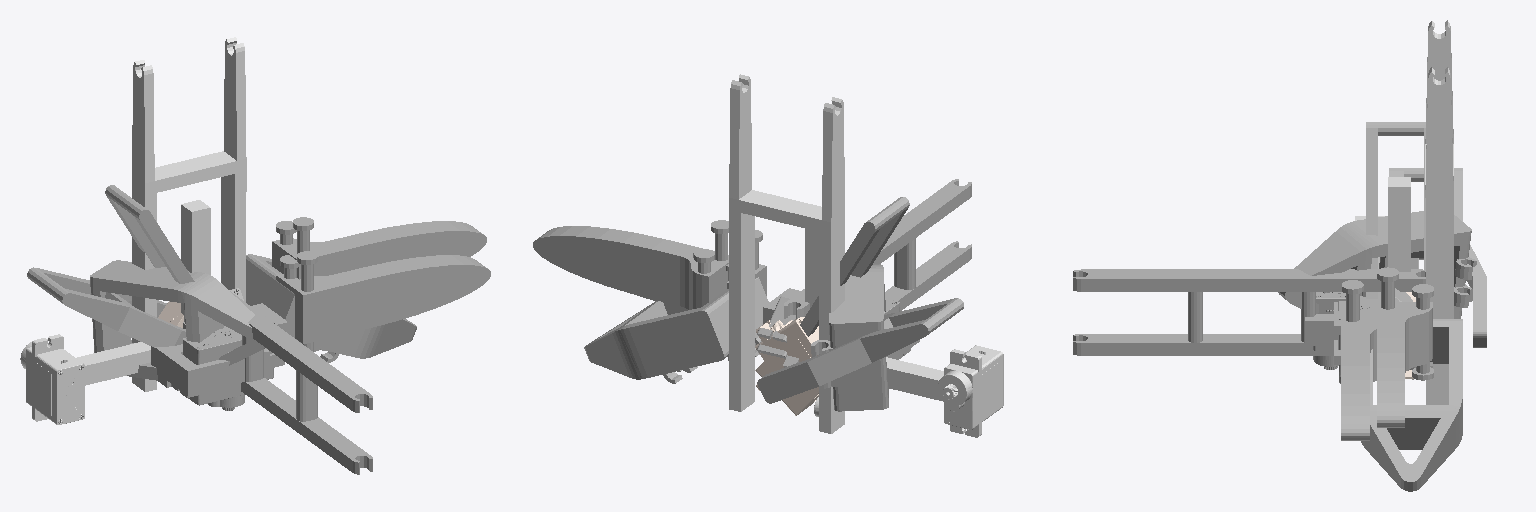
--- Facts derived from the render (not from the file) ---
The picture shows the robot from 3 angles, left to right: view 1: azimuth 30°, elevation 25°; view 2: azimuth 150°, elevation 25°; view 3: azimuth 270°, elevation 25°; orthographic projection.
Robot: barabasz — 23 links, 22 joints (22 continuous); root link MainBoard; default pose: all joints at 0.
Visible links, largest first — view 1: TAILstArmLink, TAILParallelLink, TAILstArmParallelLink, HEADParallelLink, TAILLink, RRstArmLink, TailndServoLink, HEADLink, HEADstArmLink, HEADstArmParallelLink, FRndArmLink, HEADndServoLink; view 2: TAILstArmLink, TAILLink, HEADLink, RRstArmLink, HEADstArmLink, TAILstArmParallelLink, HEADParallelLink, HEADstArmParallelLink, FLndServoLink, FRndArmLink, FRndServoLink, RLndServoLink; view 3: TAILstArmParallelLink, TAILstArmLink, HEADLink, TAILLink, HEADParallelLink, TAILParallelLink, HEADstArmParallelLink, HEADstArmLink, FRndArmLink, TailndServoLink, HEADndServoLink.
Link boxes in pixels (<box>): TAILstArmLink: <box>132,37,246,391</box>; TAILParallelLink: <box>276,251,490,351</box>; TAILstArmParallelLink: <box>230,291,372,474</box>; HEADParallelLink: <box>90,260,264,380</box>; TAILLink: <box>272,217,486,279</box>; RRstArmLink: <box>20,334,150,424</box>; TailndServoLink: <box>151,327,269,410</box>; HEADLink: <box>246,254,416,362</box>; HEADstArmLink: <box>27,267,185,347</box>; HEADstArmParallelLink: <box>105,185,194,283</box>; FRndArmLink: <box>181,200,210,321</box>; HEADndServoLink: <box>183,303,287,379</box>; TAILstArmLink: <box>729,74,844,433</box>; TAILLink: <box>533,220,728,309</box>; HEADLink: <box>584,277,768,383</box>; RRstArmLink: <box>886,345,1003,437</box>; HEADstArmLink: <box>757,298,963,403</box>; TAILstArmParallelLink: <box>784,179,971,318</box>; HEADParallelLink: <box>811,263,888,411</box>; HEADstArmParallelLink: <box>800,197,909,336</box>; FLndServoLink: <box>755,317,818,399</box>; FRndArmLink: <box>805,229,819,307</box>; FRndServoLink: <box>757,296,798,367</box>; RLndServoLink: <box>755,320,818,415</box>; TAILstArmParallelLink: <box>1073,269,1425,355</box>; TAILstArmLink: <box>1425,20,1453,404</box>; HEADLink: <box>1361,319,1462,491</box>; TAILLink: <box>1377,267,1433,427</box>; HEADParallelLink: <box>1278,211,1476,318</box>; TAILParallelLink: <box>1341,280,1398,440</box>; HEADstArmParallelLink: <box>1366,122,1425,298</box>; HEADstArmLink: <box>1378,168,1486,347</box>; FRndArmLink: <box>1388,177,1410,271</box>; TailndServoLink: <box>1305,292,1365,369</box>; HEADndServoLink: <box>1334,292,1380,383</box>.
Bounding box of the posed robot: 0.1878 × 0.1465 × 0.1327 m (x, y, z).
17 mesh visuals loaded from 23 distinct referenced files (17 binary STL); not drawn: 6 (reference not matched to a file when rendering).

URDF robot description (barabasz):
<?xml version="1.0" encoding="utf-8"?>
<!-- This URDF was automatically created by SolidWorks to URDF Exporter! Originally created by Stephen Brawner ([email redacted])
     Commit Version: 1.5.0-0-g9aa0fdb  Build Version: 1.5.7004.21443
     For more information, please see http://wiki.ros.org/sw_urdf_exporter -->
<robot
  name="barabasz">
  <link
    name="MainBoard">
    <inertial>
      <origin
        xyz="0.0320000193093406 0.0395027228531644 -0.00887228498062729"
        rpy="0 0 0" />
      <mass
        value="0.129368445580365" />
      <inertia
        ixx="8.48084091172867E-05"
        ixy="2.80190057159981E-15"
        ixz="2.02445045214041E-15"
        iyy="3.18110038223727E-05"
        iyz="-1.94866910333067E-08"
        izz="0.000114276211084326" />
    </inertial>
    <visual>
      <origin
        xyz="0 0 0"
        rpy="0 0 0" />
      <geometry>
        <mesh
          filename="package://lizardv4_description/meshes/MainBoard.STL" />
      </geometry>
      <material
        name="">
        <color
          rgba="0.92156862745098 0.92156862745098 0.92156862745098 1" />
      </material>
    </visual>
    <collision>
      <origin
        xyz="0 0 0"
        rpy="0 0 0" />
      <geometry>
        <mesh
          filename="package://lizardv4_description/meshes/MainBoard.STL" />
      </geometry>
    </collision>
  </link>
  <link
    name="FRndServoLink">
    <inertial>
      <origin
        xyz="0.0098016864311756 0.00502207567819904 0.00196275724149369"
        rpy="0 0 0" />
      <mass
        value="0.00898215960028815" />
      <inertia
        ixx="5.02863363005504E-07"
        ixy="4.18675844396454E-10"
        ixz="3.94830240933682E-11"
        iyy="3.74381841474543E-07"
        iyz="-1.3112112929385E-07"
        izz="3.05060721261306E-07" />
    </inertial>
    <visual>
      <origin
        xyz="0 0 0"
        rpy="0 0 0" />
      <geometry>
        <mesh
          filename="package://lizardv4_description/meshes/FRndServoLink.STL" />
      </geometry>
      <material
        name="">
        <color
          rgba="0.749019607843137 0.749019607843137 0.749019607843137 1" />
      </material>
    </visual>
    <collision>
      <origin
        xyz="0 0 0"
        rpy="0 0 0" />
      <geometry>
        <mesh
          filename="package://lizardv4_description/meshes/FRndServoLink.STL" />
      </geometry>
    </collision>
  </link>
  <joint
    name="FRndServoJnt"
    type="continuous">
    <origin
      xyz="0 0 0"
      rpy="0 0 0" />
    <parent
      link="MainBoard" />
    <child
      link="FRndServoLink" />
    <axis
      xyz="-1 0 0" />
    <limit
      lower="-90"
      upper="90"
      effort="0"
      velocity="0" />
    <safety_controller
      k_velocity="0" />
  </joint>
  <link
    name="FRstArmLink">
    <inertial>
      <origin
        xyz="-0.0500875871883696 0.00194912580005271 0.000253934434247732"
        rpy="0 0 0" />
      <mass
        value="0.0107279118497702" />
      <inertia
        ixx="4.12846705839608E-07"
        ixy="-3.43052828463929E-12"
        ixz="7.44951237431332E-12"
        iyy="1.46713625008234E-06"
        iyz="-9.7433444226041E-09"
        izz="1.19624826540066E-06" />
    </inertial>
    <visual>
      <origin
        xyz="0 0 0"
        rpy="0 0 0" />
      <geometry>
        <mesh
          filename="package://lizardv4_description/meshes/FRstArmLink.STL" />
      </geometry>
      <material
        name="">
        <color
          rgba="0.92156862745098 0.92156862745098 0.92156862745098 1" />
      </material>
    </visual>
    <collision>
      <origin
        xyz="0 0 0"
        rpy="0 0 0" />
      <geometry>
        <mesh
          filename="package://lizardv4_description/meshes/FRstArmLink.STL" />
      </geometry>
    </collision>
  </link>
  <joint
    name="FRstArmJnt"
    type="continuous">
    <origin
      xyz="0 0 0"
      rpy="0 0 0" />
    <parent
      link="FRndServoLink" />
    <child
      link="FRstArmLink" />
    <axis
      xyz="0 -1 0" />
    <limit
      lower="-90"
      upper="90"
      effort="0"
      velocity="0" />
    <safety_controller
      k_velocity="0" />
  </joint>
  <link
    name="FRndArmLink">
    <inertial>
      <origin
        xyz="1.66533453693773E-16 0.00400000000000231 0.0271089217366474"
        rpy="0 0 0" />
      <mass
        value="0.0036829203673205" />
      <inertia
        ixx="1.06068205884601E-06"
        ixy="-2.61337374778472E-23"
        ixz="-3.15677567247594E-21"
        iyy="1.0612743799609E-06"
        iyz="-9.69952264274263E-23"
        izz="3.98768050329808E-08" />
    </inertial>
    <visual>
      <origin
        xyz="0 0 0"
        rpy="0 0 0" />
      <geometry>
        <mesh
          filename="package://lizardv4_description/meshes/FRndArmLink.STL" />
      </geometry>
      <material
        name="">
        <color
          rgba="0.92156862745098 0.92156862745098 0.92156862745098 1" />
      </material>
    </visual>
    <collision>
      <origin
        xyz="0 0 0"
        rpy="0 0 0" />
      <geometry>
        <mesh
          filename="package://lizardv4_description/meshes/FRndArmLink.STL" />
      </geometry>
    </collision>
  </link>
  <joint
    name="FRndArmJnt"
    type="continuous">
    <origin
      xyz="0 0 0"
      rpy="0 0 0" />
    <parent
      link="FRstArmLink" />
    <child
      link="FRndArmLink" />
    <axis
      xyz="0 -1 0" />
    <limit
      lower="-90"
      upper="90"
      effort="0"
      velocity="0" />
    <safety_controller
      k_velocity="0" />
  </joint>
  <link
    name="FLndServoLink">
    <inertial>
      <origin
        xyz="0.00502207561036433 0.0098014081989965 0.00196275721417633"
        rpy="0 0 0" />
      <mass
        value="0.00898215956181228" />
      <inertia
        ixx="3.74381842823677E-07"
        ixy="4.03840416342418E-10"
        ixz="-1.31121133113021E-07"
        iyy="5.02863370888215E-07"
        iyz="3.24804200573631E-11"
        izz="3.05060719170781E-07" />
    </inertial>
    <visual>
      <origin
        xyz="0 0 0"
        rpy="0 0 0" />
      <geometry>
        <mesh
          filename="package://lizardv4_description/meshes/FLndServoLink.STL" />
      </geometry>
      <material
        name="">
        <color
          rgba="1 0.949019607843137 0.909803921568627 1" />
      </material>
    </visual>
    <collision>
      <origin
        xyz="0 0 0"
        rpy="0 0 0" />
      <geometry>
        <mesh
          filename="package://lizardv4_description/meshes/FLndServoLink.STL" />
      </geometry>
    </collision>
  </link>
  <joint
    name="FLndServoJnt"
    type="continuous">
    <origin
      xyz="0 0 0"
      rpy="0 0 0" />
    <parent
      link="MainBoard" />
    <child
      link="FLndServoLink" />
    <axis
      xyz="0 -1 0" />
    <limit
      lower="-90"
      upper="90"
      effort="0"
      velocity="0" />
    <safety_controller
      k_velocity="0" />
  </joint>
  <link
    name="FLstArmLink">
    <inertial>
      <origin
        xyz="-0.0500875873876524 0.00194912593459625 0.000253934562126246"
        rpy="0 0 0" />
      <mass
        value="0.0107279120183282" />
      <inertia
        ixx="4.1284671726827E-07"
        ixy="-3.43025266266729E-12"
        ixz="7.45044411557124E-12"
        iyy="1.46713626063975E-06"
        iyz="-9.74334754935356E-09"
        izz="1.19624826644716E-06" />
    </inertial>
    <visual>
      <origin
        xyz="0 0 0"
        rpy="0 0 0" />
      <geometry>
        <mesh
          filename="package://lizardv4_description/meshes/FLstArmLink.STL" />
      </geometry>
      <material
        name="">
        <color
          rgba="0.92156862745098 0.92156862745098 0.92156862745098 1" />
      </material>
    </visual>
    <collision>
      <origin
        xyz="0 0 0"
        rpy="0 0 0" />
      <geometry>
        <mesh
          filename="package://lizardv4_description/meshes/FLstArmLink.STL" />
      </geometry>
    </collision>
  </link>
  <joint
    name="FLstArmJnt"
    type="continuous">
    <origin
      xyz="0 0 0"
      rpy="0 0 0" />
    <parent
      link="FLndServoLink" />
    <child
      link="FLstArmLink" />
    <axis
      xyz="0 -1 0" />
    <limit
      lower="-90"
      upper="90"
      effort="0"
      velocity="0" />
    <safety_controller
      k_velocity="0" />
  </joint>
  <link
    name="FLndArmLink">
    <inertial>
      <origin
        xyz="1.77635683940025E-15 0.00400000000000253 0.0271089217366467"
        rpy="0 0 0" />
      <mass
        value="0.00368292036732051" />
      <inertia
        ixx="1.06068205884601E-06"
        ixy="-1.47341546611008E-23"
        ixz="-2.75832422543757E-22"
        iyy="1.06127437996091E-06"
        iyz="1.85708348209369E-21"
        izz="3.98768050329815E-08" />
    </inertial>
    <visual>
      <origin
        xyz="0 0 0"
        rpy="0 0 0" />
      <geometry>
        <mesh
          filename="package://lizardv4_description/meshes/FLndArmLink.STL" />
      </geometry>
      <material
        name="">
        <color
          rgba="0.92156862745098 0.92156862745098 0.92156862745098 1" />
      </material>
    </visual>
    <collision>
      <origin
        xyz="0 0 0"
        rpy="0 0 0" />
      <geometry>
        <mesh
          filename="package://lizardv4_description/meshes/FLndArmLink.STL" />
      </geometry>
    </collision>
  </link>
  <joint
    name="FLndArmJnt"
    type="continuous">
    <origin
      xyz="0 0 0"
      rpy="0 0 0" />
    <parent
      link="FLstArmLink" />
    <child
      link="FLndArmLink" />
    <axis
      xyz="0 -1 0" />
    <limit
      lower="-90"
      upper="90"
      effort="0"
      velocity="0" />
    <safety_controller
      k_velocity="0" />
  </joint>
  <link
    name="RLndServoLink">
    <inertial>
      <origin
        xyz="0.00502207559527033 0.00980168628786889 -0.00196275742307396"
        rpy="0 0 0" />
      <mass
        value="0.00898215939878838" />
      <inertia
        ixx="3.74381834266887E-07"
        ixy="4.18674984067614E-10"
        ixz="1.31121128597758E-07"
        iyy="5.02863359943406E-07"
        iyz="-3.94795548611325E-11"
        izz="3.05060716625873E-07" />
    </inertial>
    <visual>
      <origin
        xyz="0 0 0"
        rpy="0 0 0" />
      <geometry>
        <mesh
          filename="package://lizardv4_description/meshes/RLndServoLink.STL" />
      </geometry>
      <material
        name="">
        <color
          rgba="1 0.949019607843137 0.909803921568627 1" />
      </material>
    </visual>
    <collision>
      <origin
        xyz="0 0 0"
        rpy="0 0 0" />
      <geometry>
        <mesh
          filename="package://lizardv4_description/meshes/RLndServoLink.STL" />
      </geometry>
    </collision>
  </link>
  <joint
    name="RLndServoJnt"
    type="continuous">
    <origin
      xyz="0 0 0"
      rpy="0 0 0" />
    <parent
      link="MainBoard" />
    <child
      link="RLndServoLink" />
    <axis
      xyz="0 -1 0" />
    <limit
      lower="-90"
      upper="90"
      effort="0"
      velocity="0" />
    <safety_controller
      k_velocity="0" />
  </joint>
  <link
    name="RLstArmLink">
    <inertial>
      <origin
        xyz="-0.0500875871864415 0.00194912579904715 0.00025393443359199"
        rpy="0 0 0" />
      <mass
        value="0.0107279118486511" />
      <inertia
        ixx="4.12846705783004E-07"
        ixy="-3.43054560284723E-12"
        ixz="7.44948705378678E-12"
        iyy="1.46713625002562E-06"
        iyz="-9.74334440777068E-09"
        izz="1.19624826538892E-06" />
    </inertial>
    <visual>
      <origin
        xyz="0 0 0"
        rpy="0 0 0" />
      <geometry>
        <mesh
          filename="package://lizardv4_description/meshes/RLstArmLink.STL" />
      </geometry>
      <material
        name="">
        <color
          rgba="0.92156862745098 0.92156862745098 0.92156862745098 1" />
      </material>
    </visual>
    <collision>
      <origin
        xyz="0 0 0"
        rpy="0 0 0" />
      <geometry>
        <mesh
          filename="package://lizardv4_description/meshes/RLstArmLink.STL" />
      </geometry>
    </collision>
  </link>
  <joint
    name="RLstArmJnt"
    type="continuous">
    <origin
      xyz="0 0 0"
      rpy="0 0 0" />
    <parent
      link="RLndServoLink" />
    <child
      link="RLstArmLink" />
    <axis
      xyz="0 -1 0" />
    <limit
      lower="-90"
      upper="90"
      effort="0"
      velocity="0" />
    <safety_controller
      k_velocity="0" />
  </joint>
  <link
    name="RLndArmLink">
    <inertial>
      <origin
        xyz="-6.07153216591882E-16 0.00400000000000033 0.027108921736649"
        rpy="0 0 0" />
      <mass
        value="0.00368292036732051" />
      <inertia
        ixx="1.06068205884601E-06"
        ixy="-8.73709522009135E-24"
        ixz="-4.73809701105228E-22"
        iyy="1.0612743799609E-06"
        iyz="2.86809130555803E-21"
        izz="3.98768050329813E-08" />
    </inertial>
    <visual>
      <origin
        xyz="0 0 0"
        rpy="0 0 0" />
      <geometry>
        <mesh
          filename="package://lizardv4_description/meshes/RLndArmLink.STL" />
      </geometry>
      <material
        name="">
        <color
          rgba="0.92156862745098 0.92156862745098 0.92156862745098 1" />
      </material>
    </visual>
    <collision>
      <origin
        xyz="0 0 0"
        rpy="0 0 0" />
      <geometry>
        <mesh
          filename="package://lizardv4_description/meshes/RLndArmLink.STL" />
      </geometry>
    </collision>
  </link>
  <joint
    name="RLndArmJnt"
    type="continuous">
    <origin
      xyz="0 0 0"
      rpy="0 0 0" />
    <parent
      link="RLstArmLink" />
    <child
      link="RLndArmLink" />
    <axis
      xyz="0 -1 0" />
    <limit
      lower="-90"
      upper="90"
      effort="0"
      velocity="0" />
    <safety_controller
      k_velocity="0" />
  </joint>
  <link
    name="RRndServoLink">
    <inertial>
      <origin
        xyz="0.00502207563561259 0.0098014082543094 0.00196275732204219"
        rpy="0 0 0" />
      <mass
        value="0.00898215950593245" />
      <inertia
        ixx="3.74381838430846E-07"
        ixy="4.03841544870431E-10"
        ixz="-1.31121129092361E-07"
        iyy="5.02863361856574E-07"
        iyz="3.24833698928373E-11"
        izz="3.05060719194867E-07" />
    </inertial>
    <visual>
      <origin
        xyz="0 0 0"
        rpy="0 0 0" />
      <geometry>
        <mesh
          filename="package://lizardv4_description/meshes/RRndServoLink.STL" />
      </geometry>
      <material
        name="">
        <color
          rgba="0.749019607843137 0.749019607843137 0.749019607843137 1" />
      </material>
    </visual>
    <collision>
      <origin
        xyz="0 0 0"
        rpy="0 0 0" />
      <geometry>
        <mesh
          filename="package://lizardv4_description/meshes/RRndServoLink.STL" />
      </geometry>
    </collision>
  </link>
  <joint
    name="RRndServoJnt"
    type="continuous">
    <origin
      xyz="0 0 0"
      rpy="0 0 0" />
    <parent
      link="MainBoard" />
    <child
      link="RRndServoLink" />
    <axis
      xyz="0 -1 0" />
    <limit
      lower="-90"
      upper="90"
      effort="0"
      velocity="0" />
    <safety_controller
      k_velocity="0" />
  </joint>
  <link
    name="RRstArmLink">
    <inertial>
      <origin
        xyz="-0.0500875871874151 0.00194912579927123 0.000253934434254439"
        rpy="0 0 0" />
      <mass
        value="0.0107279118489898" />
      <inertia
        ixx="4.12846705857771E-07"
        ixy="-3.43053046219455E-12"
        ixz="7.44951233072175E-12"
        iyy="1.46713625007563E-06"
        iyz="-9.74334442457229E-09"
        izz="1.19624826536787E-06" />
    </inertial>
    <visual>
      <origin
        xyz="0 0 0"
        rpy="0 0 0" />
      <geometry>
        <mesh
          filename="package://lizardv4_description/meshes/RRstArmLink.STL" />
      </geometry>
      <material
        name="">
        <color
          rgba="0.92156862745098 0.92156862745098 0.92156862745098 1" />
      </material>
    </visual>
    <collision>
      <origin
        xyz="0 0 0"
        rpy="0 0 0" />
      <geometry>
        <mesh
          filename="package://lizardv4_description/meshes/RRstArmLink.STL" />
      </geometry>
    </collision>
  </link>
  <joint
    name="RRstArmJnt"
    type="continuous">
    <origin
      xyz="0 0 0"
      rpy="0 0 0" />
    <parent
      link="RRndServoLink" />
    <child
      link="RRstArmLink" />
    <axis
      xyz="0 -1 0" />
    <limit
      lower="-90"
      upper="90"
      effort="0"
      velocity="0" />
    <safety_controller
      k_velocity="0" />
  </joint>
  <link
    name="RRndArmLink">
    <inertial>
      <origin
        xyz="-2.77555756156289E-17 0.00400000000000003 0.0271089217366482"
        rpy="0 0 0" />
      <mass
        value="0.00368292036732051" />
      <inertia
        ixx="1.06068205884601E-06"
        ixy="-4.75628852217991E-24"
        ixz="1.08545321853851E-21"
        iyy="1.0612743799609E-06"
        iyz="-5.49341371253738E-22"
        izz="3.98768050329812E-08" />
    </inertial>
    <visual>
      <origin
        xyz="0 0 0"
        rpy="0 0 0" />
      <geometry>
        <mesh
          filename="package://lizardv4_description/meshes/RRndArmLink.STL" />
      </geometry>
      <material
        name="">
        <color
          rgba="0.92156862745098 0.92156862745098 0.92156862745098 1" />
      </material>
    </visual>
    <collision>
      <origin
        xyz="0 0 0"
        rpy="0 0 0" />
      <geometry>
        <mesh
          filename="package://lizardv4_description/meshes/RRndArmLink.STL" />
      </geometry>
    </collision>
  </link>
  <joint
    name="RRndArmJnt"
    type="continuous">
    <origin
      xyz="0 0 0"
      rpy="0 0 0" />
    <parent
      link="RRstArmLink" />
    <child
      link="RRndArmLink" />
    <axis
      xyz="0 -1 0" />
    <limit
      lower="-90"
      upper="90"
      effort="0"
      velocity="0" />
    <safety_controller
      k_velocity="0" />
  </joint>
  <link
    name="HEADndServoLink">
    <inertial>
      <origin
        xyz="0.00817073714990585 -0.00971625048268563 0.00145467704025708"
        rpy="0 0 0" />
      <mass
        value="0.0121934444913325" />
      <inertia
        ixx="4.23955061841118E-07"
        ixy="-9.10853312043913E-08"
        ixz="-1.63814882462324E-08"
        iyy="1.2199527611556E-06"
        iyz="-8.11641297651328E-09"
        izz="1.31199138818332E-06" />
    </inertial>
    <visual>
      <origin
        xyz="0 0 0"
        rpy="0 0 0" />
      <geometry>
        <mesh
          filename="package://lizardv4_description/meshes/HEADndServoLink.STL" />
      </geometry>
      <material
        name="">
        <color
          rgba="0.749019607843137 0.749019607843137 0.749019607843137 1" />
      </material>
    </visual>
    <collision>
      <origin
        xyz="0 0 0"
        rpy="0 0 0" />
      <geometry>
        <mesh
          filename="package://lizardv4_description/meshes/HEADndServoLink.STL" />
      </geometry>
    </collision>
  </link>
  <joint
    name="HEADndServoJnt"
    type="continuous">
    <origin
      xyz="0 0 0"
      rpy="0 0 0" />
    <parent
      link="MainBoard" />
    <child
      link="HEADndServoLink" />
    <axis
      xyz="0 1 0" />
    <limit
      lower="-90"
      upper="90"
      effort="0"
      velocity="0" />
    <safety_controller
      k_velocity="0" />
  </joint>
  <link
    name="HEADstArmLink">
    <inertial>
      <origin
        xyz="-0.0251265028854895 0.013480592660757 0.0145067918138991"
        rpy="0 0 0" />
      <mass
        value="0.00788385789613033" />
      <inertia
        ixx="2.36782866238395E-06"
        ixy="-8.51226692416808E-08"
        ixz="1.30397572984443E-06"
        iyy="3.12428228891571E-06"
        iyz="4.91456350401789E-08"
        izz="3.87353002601518E-06" />
    </inertial>
    <visual>
      <origin
        xyz="0 0 0"
        rpy="0 0 0" />
      <geometry>
        <mesh
          filename="package://lizardv4_description/meshes/HEADstArmLink.STL" />
      </geometry>
      <material
        name="">
        <color
          rgba="0.749019607843137 0.749019607843137 0.749019607843137 1" />
      </material>
    </visual>
    <collision>
      <origin
        xyz="0 0 0"
        rpy="0 0 0" />
      <geometry>
        <mesh
          filename="package://lizardv4_description/meshes/HEADstArmLink.STL" />
      </geometry>
    </collision>
  </link>
  <joint
    name="HEADstArmJnt"
    type="continuous">
    <origin
      xyz="0 0 0"
      rpy="0 0 0" />
    <parent
      link="HEADndServoLink" />
    <child
      link="HEADstArmLink" />
    <axis
      xyz="0 1 0" />
    <limit
      lower="-90"
      upper="90"
      effort="0"
      velocity="0" />
    <safety_controller
      k_velocity="0" />
  </joint>
  <link
    name="HEADLink">
    <inertial>
      <origin
        xyz="0.0554988766394613 0.00799999970901315 -0.00147454938363152"
        rpy="0 0 0" />
      <mass
        value="0.0177300364754162" />
      <inertia
        ixx="4.41581214683472E-06"
        ixy="-1.54454845110966E-12"
        ixz="2.20726693817977E-06"
        iyy="7.03739587968143E-06"
        iyz="4.16679611799208E-13"
        izz="8.27777171343773E-06" />
    </inertial>
    <visual>
      <origin
        xyz="0 0 0"
        rpy="0 0 0" />
      <geometry>
        <mesh
          filename="package://lizardv4_description/meshes/HEADLink.STL" />
      </geometry>
      <material
        name="">
        <color
          rgba="0.749019607843137 0.749019607843137 0.749019607843137 1" />
      </material>
    </visual>
    <collision>
      <origin
        xyz="0 0 0"
        rpy="0 0 0" />
      <geometry>
        <mesh
          filename="package://lizardv4_description/meshes/HEADLink.STL" />
      </geometry>
    </collision>
  </link>
  <joint
    name="HEADJnt"
    type="continuous">
    <origin
      xyz="0 0 0"
      rpy="0 0 0" />
    <parent
      link="HEADstArmLink" />
    <child
      link="HEADLink" />
    <axis
      xyz="0 1 0" />
    <limit
      lower="-90"
      upper="90"
      effort="0"
      velocity="0" />
    <safety_controller
      k_velocity="0" />
  </joint>
  <link
    name="HEADstArmParallelLink">
    <inertial>
      <origin
        xyz="-0.0122501451765017 0.00455000000000487 0.035245741804803"
        rpy="0 0 0" />
      <mass
        value="0.00373003311748238" />
      <inertia
        ixx="1.76654564691896E-06"
        ixy="1.02089597225529E-21"
        ixz="8.1677668885244E-07"
        iyy="1.9009569588329E-06"
        iyz="-1.64562412988596E-21"
        izz="8.23435633498772E-07" />
    </inertial>
    <visual>
      <origin
        xyz="0 0 0"
        rpy="0 0 0" />
      <geometry>
        <mesh
          filename="package://lizardv4_description/meshes/HEADstArmParallelLink.STL" />
      </geometry>
      <material
        name="">
        <color
          rgba="0.749019607843137 0.749019607843137 0.749019607843137 1" />
      </material>
    </visual>
    <collision>
      <origin
        xyz="0 0 0"
        rpy="0 0 0" />
      <geometry>
        <mesh
          filename="package://lizardv4_description/meshes/HEADstArmParallelLink.STL" />
      </geometry>
    </collision>
  </link>
  <joint
    name="HEADstArmParallelLJnt"
    type="continuous">
    <origin
      xyz="0 0 0"
      rpy="0 0 0" />
    <parent
      link="HEADndServoLink" />
    <child
      link="HEADstArmParallelLink" />
    <axis
      xyz="0 1 0" />
    <limit
      lower="-90"
      upper="90"
      effort="0"
      velocity="0" />
    <safety_controller
      k_velocity="0" />
  </joint>
  <link
    name="HEADParallelLink">
    <inertial>
      <origin
        xyz="-0.0134202070650145 -0.00023110163398038 0.0126004276917603"
        rpy="0 0 0" />
      <mass
        value="0.0177300364754162" />
      <inertia
        ixx="7.8539051231723E-06"
        ixy="2.50107486289452E-06"
        ixz="-2.71927351959353E-07"
        iyy="4.86526699259685E-06"
        iyz="2.35756479588157E-07"
        izz="7.01180762418472E-06" />
    </inertial>
    <visual>
      <origin
        xyz="0 0 0"
        rpy="0 0 0" />
      <geometry>
        <mesh
          filename="package://lizardv4_description/meshes/HEADParallelLink.STL" />
      </geometry>
      <material
        name="">
        <color
          rgba="0.749019607843137 0.749019607843137 0.749019607843137 1" />
      </material>
    </visual>
    <collision>
      <origin
        xyz="0 0 0"
        rpy="0 0 0" />
      <geometry>
        <mesh
          filename="package://lizardv4_description/meshes/HEADParallelLink.STL" />
      </geometry>
    </collision>
  </link>
  <joint
    name="HEADParallelJnt"
    type="continuous">
    <origin
      xyz="0 0 0"
      rpy="0 0 0" />
    <parent
      link="HEADstArmParallelLink" />
    <child
      link="HEADParallelLink" />
    <axis
      xyz="0 1 0" />
    <limit
      lower="-90"
      upper="90"
      effort="0"
      velocity="0" />
    <safety_controller
      k_velocity="0" />
  </joint>
  <link
    name="TailndServoLink">
    <inertial>
      <origin
        xyz="-0.0048574414776266 -0.0161888669112015 0.00107673629300598"
        rpy="0 0 0" />
      <mass
        value="0.0151391203827047" />
      <inertia
        ixx="7.7721318874226E-07"
        ixy="-7.03495523708996E-09"
        ixz="1.32669798403111E-08"
        iyy="1.48477068102486E-06"
        iyz="3.80435662351854E-08"
        izz="1.87604788829166E-06" />
    </inertial>
    <visual>
      <origin
        xyz="0 0 0"
        rpy="0 0 0" />
      <geometry>
        <mesh
          filename="package://lizardv4_description/meshes/TailndServoLink.STL" />
      </geometry>
      <material
        name="">
        <color
          rgba="0.749019607843137 0.749019607843137 0.749019607843137 1" />
      </material>
    </visual>
    <collision>
      <origin
        xyz="0 0 0"
        rpy="0 0 0" />
      <geometry>
        <mesh
          filename="package://lizardv4_description/meshes/TailndServoLink.STL" />
      </geometry>
    </collision>
  </link>
  <joint
    name="TailndServoJnt"
    type="continuous">
    <origin
      xyz="0 0 0"
      rpy="0 0 0" />
    <parent
      link="MainBoard" />
    <child
      link="TailndServoLink" />
    <axis
      xyz="0 1 0" />
    <limit
      lower="-90"
      upper="90"
      effort="0"
      velocity="0" />
    <safety_controller
      k_velocity="0" />
  </joint>
  <link
    name="TAILstArmLink">
    <inertial>
      <origin
        xyz="0.00543848267787118 0.0182547316012027 0.0424256187265556"
        rpy="0 0 0" />
      <mass
        value="0.0132846631864033" />
      <inertia
        ixx="1.50674585466447E-05"
        ixy="-1.63523642523639E-10"
        ixz="1.97822495424931E-07"
        iyy="1.93171005318235E-05"
        iyz="1.22759944593701E-08"
        izz="4.46322191208121E-06" />
    </inertial>
    <visual>
      <origin
        xyz="0 0 0"
        rpy="0 0 0" />
      <geometry>
        <mesh
          filename="package://lizardv4_description/meshes/TAILstArmLink.STL" />
      </geometry>
      <material
        name="">
        <color
          rgba="0.92156862745098 0.92156862745098 0.92156862745098 1" />
      </material>
    </visual>
    <collision>
      <origin
        xyz="0 0 0"
        rpy="0 0 0" />
      <geometry>
        <mesh
          filename="package://lizardv4_description/meshes/TAILstArmLink.STL" />
      </geometry>
    </collision>
  </link>
  <joint
    name="TAILstArmJnt"
    type="continuous">
    <origin
      xyz="0 0 0"
      rpy="0 0 0" />
    <parent
      link="TailndServoLink" />
    <child
      link="TAILstArmLink" />
    <axis
      xyz="1 0 0" />
    <limit
      lower="-90"
      upper="90"
      effort="0"
      velocity="0" />
    <safety_controller
      k_velocity="0" />
  </joint>
  <link
    name="TAILLink">
    <inertial>
      <origin
        xyz="0.0693819489154556 0.00236468450873411 0.0174996318739005"
        rpy="0 0 0" />
      <mass
        value="0.0170255571844121" />
      <inertia
        ixx="1.10748675129764E-06"
        ixy="5.92827428438699E-07"
        ixz="2.6867305894356E-10"
        iyy="9.48088608953699E-06"
        iyz="-2.33873685031626E-12"
        izz="9.05157957329576E-06" />
    </inertial>
    <visual>
      <origin
        xyz="0 0 0"
        rpy="0 0 0" />
      <geometry>
        <mesh
          filename="package://lizardv4_description/meshes/TAILLink.STL" />
      </geometry>
      <material
        name="">
        <color
          rgba="0.749019607843137 0.749019607843137 0.749019607843137 1" />
      </material>
    </visual>
    <collision>
      <origin
        xyz="0 0 0"
        rpy="0 0 0" />
      <geometry>
        <mesh
          filename="package://lizardv4_description/meshes/TAILLink.STL" />
      </geometry>
    </collision>
  </link>
  <joint
    name="TAILJnt"
    type="continuous">
    <origin
      xyz="0 0 0"
      rpy="0 0 0" />
    <parent
      link="TAILstArmLink" />
    <child
      link="TAILLink" />
    <axis
      xyz="0 0 1" />
    <limit
      lower="-90"
      upper="90"
      effort="0"
      velocity="0" />
    <safety_controller
      k_velocity="0" />
  </joint>
  <link
    name="TAILstArmParallelLink">
    <inertial>
      <origin
        xyz="0.00570000000000003 -0.04815 0.00754999999999956"
        rpy="0 0 0" />
      <mass
        value="0.0110994579255875" />
      <inertia
        ixx="1.38627444069151E-05"
        ixy="2.63063481881553E-21"
        ixz="-4.78081631772327E-22"
        iyy="1.63407638509854E-06"
        iyz="-3.0736480598822E-21"
        izz="1.23476561550545E-05" />
    </inertial>
    <visual>
      <origin
        xyz="0 0 0"
        rpy="0 0 0" />
      <geometry>
        <mesh
          filename="package://lizardv4_description/meshes/TAILstArmParallelLink.STL" />
      </geometry>
      <material
        name="">
        <color
          rgba="0.749019607843137 0.749019607843137 0.749019607843137 1" />
      </material>
    </visual>
    <collision>
      <origin
        xyz="0 0 0"
        rpy="0 0 0" />
      <geometry>
        <mesh
          filename="package://lizardv4_description/meshes/TAILstArmParallelLink.STL" />
      </geometry>
    </collision>
  </link>
  <joint
    name="TAILstArmParallelJnt"
    type="continuous">
    <origin
      xyz="0 0 0"
      rpy="0 0 0" />
    <parent
      link="TailndServoLink" />
    <child
      link="TAILstArmParallelLink" />
    <axis
      xyz="0 0 -1" />
    <limit
      lower="-90"
      upper="90"
      effort="0"
      velocity="0" />
    <safety_controller
      k_velocity="0" />
  </joint>
  <link
    name="TAILParallelLink">
    <inertial>
      <origin
        xyz="0.0638799444695541 -0.0101139262583112 0.00999963187390017"
        rpy="0 0 0" />
      <mass
        value="0.0170255571844121" />
      <inertia
        ixx="1.10651259072902E-06"
        ixy="5.85906456236652E-07"
        ixz="2.68674900034566E-10"
        iyy="9.48186025010561E-06"
        iyz="-2.11669219326754E-12"
        izz="9.05157957329576E-06" />
    </inertial>
    <visual>
      <origin
        xyz="0 0 0"
        rpy="0 0 0" />
      <geometry>
        <mesh
          filename="package://lizardv4_description/meshes/TAILParallelLink.STL" />
      </geometry>
      <material
        name="">
        <color
          rgba="0.749019607843137 0.749019607843137 0.749019607843137 1" />
      </material>
    </visual>
    <collision>
      <origin
        xyz="0 0 0"
        rpy="0 0 0" />
      <geometry>
        <mesh
          filename="package://lizardv4_description/meshes/TAILParallelLink.STL" />
      </geometry>
    </collision>
  </link>
  <joint
    name="TAILParallelJnt"
    type="continuous">
    <origin
      xyz="0 0 0"
      rpy="0 0 0" />
    <parent
      link="TAILstArmParallelLink" />
    <child
      link="TAILParallelLink" />
    <axis
      xyz="0 0 1" />
    <limit
      lower="-90"
      upper="90"
      effort="0"
      velocity="0" />
    <safety_controller
      k_velocity="0" />
  </joint>

  <!-- ################### TRANSMISSION Definitions ############################# -->
  <!-- ################### TRANSMISSION Definitions ############################# -->

  <!-- front right leg -->
  <transmission name="transmission_front_right_leg_1">
    <type>transmission_interface/SimpleTransmission</type>
    <actuator name="servo_front_right_leg_1">
      <mechanicalReduction>1</mechanicalReduction>
      <hardwareInterface>hardware_interface/EffortJointInterface</hardwareInterface>
    </actuator>
    <joint name="FRndServoJnt">
      <hardwareInterface>hardware_interface/EffortJointInterface</hardwareInterface>
    </joint>
  </transmission>

  <transmission name="transmission_front_right_leg_2">
    <type>transmission_interface/SimpleTransmission</type>
    <actuator name="servo_front_right_leg_2">
      <mechanicalReduction>1</mechanicalReduction>
      <hardwareInterface>hardware_interface/EffortJointInterface</hardwareInterface>
    </actuator>
    <joint name="FRstArmJnt">
      <hardwareInterface>hardware_interface/EffortJointInterface</hardwareInterface>
    </joint>
  </transmission>

  <transmission name="transmission_front_right_leg_3">
    <type>transmission_interface/SimpleTransmission</type>
    <actuator name="servo_front_right_leg_3">
      <mechanicalReduction>1</mechanicalReduction>
      <hardwareInterface>hardware_interface/EffortJointInterface</hardwareInterface>
    </actuator>
    <joint name="FRndArmJnt">
      <hardwareInterface>hardware_interface/EffortJointInterface</hardwareInterface>
    </joint>
  </transmission>

  <!-- front left leg -->
  <transmission name="transmission_front_left_leg_1">
    <type>transmission_interface/SimpleTransmission</type>
    <actuator name="servo_front_left_leg_1">
      <mechanicalReduction>1</mechanicalReduction>
      <hardwareInterface>hardware_interface/EffortJointInterface</hardwareInterface>
    </actuator>
    <joint name="FLndServoJnt">
      <hardwareInterface>hardware_interface/EffortJointInterface</hardwareInterface>
    </joint>
  </transmission>

  <transmission name="transmission_front_left_leg_2">
    <type>transmission_interface/SimpleTransmission</type>
    <actuator name="servo_front_left_leg_2">
      <mechanicalReduction>1</mechanicalReduction>
      <hardwareInterface>hardware_interface/EffortJointInterface</hardwareInterface>
    </actuator>
    <joint name="FLstArmJnt">
      <hardwareInterface>hardware_interface/EffortJointInterface</hardwareInterface>
    </joint>
  </transmission>

  <transmission name="transmission_front_left_leg_3">
    <type>transmission_interface/SimpleTransmission</type>
    <actuator name="servo_front_left_leg_3">
      <mechanicalReduction>1</mechanicalReduction>
      <hardwareInterface>hardware_interface/EffortJointInterface</hardwareInterface>
    </actuator>
    <joint name="FLndArmJnt">
      <hardwareInterface>hardware_interface/EffortJointInterface</hardwareInterface>
    </joint>
  </transmission>

  <!-- rear right leg -->
  <transmission name="transmission_rear_right_leg_1">
    <type>transmission_interface/SimpleTransmission</type>
    <actuator name="servo_rear_right_leg_1">
      <mechanicalReduction>1</mechanicalReduction>
      <hardwareInterface>hardware_interface/EffortJointInterface</hardwareInterface>
    </actuator>
    <joint name="RRndServoJnt">
      <hardwareInterface>hardware_interface/EffortJointInterface</hardwareInterface>
    </joint>
  </transmission>

  <transmission name="transmission_rear_right_leg_2">
    <type>transmission_interface/SimpleTransmission</type>
    <actuator name="servo_rear_right_leg_2">
      <mechanicalReduction>1</mechanicalReduction>
      <hardwareInterface>hardware_interface/EffortJointInterface</hardwareInterface>
    </actuator>
    <joint name="RRstArmJnt">
      <hardwareInterface>hardware_interface/EffortJointInterface</hardwareInterface>
    </joint>
  </transmission>

  <transmission name="transmission_rear_right_leg_3">
    <type>transmission_interface/SimpleTransmission</type>
    <actuator name="servo_rear_right_leg_3">
      <mechanicalReduction>1</mechanicalReduction>
      <hardwareInterface>hardware_interface/EffortJointInterface</hardwareInterface>
    </actuator>
    <joint name="RRndArmJnt">
      <hardwareInterface>hardware_interface/EffortJointInterface</hardwareInterface>
    </joint>
  </transmission>

  <!-- rear left leg -->
  <transmission name="transmission_rear_left_leg_1">
    <type>transmission_interface/SimpleTransmission</type>
    <actuator name="servo_rear_left_leg_1">
      <mechanicalReduction>1</mechanicalReduction>
      <hardwareInterface>hardware_interface/EffortJointInterface</hardwareInterface>
    </actuator>
    <joint name="RLndServoJnt">
      <hardwareInterface>hardware_interface/EffortJointInterface</hardwareInterface>
    </joint>
  </transmission>

  <transmission name="transmission_rear_left_leg_2">
    <type>transmission_interface/SimpleTransmission</type>
    <actuator name="servo_rear_left_leg_2">
      <mechanicalReduction>1</mechanicalReduction>
      <hardwareInterface>hardware_interface/EffortJointInterface</hardwareInterface>
    </actuator>
    <joint name="RLstArmJnt">
      <hardwareInterface>hardware_interface/EffortJointInterface</hardwareInterface>
    </joint>
  </transmission>

  <transmission name="transmission_rear_left_leg_3">
    <type>transmission_interface/SimpleTransmission</type>
    <actuator name="servo_rear_left_leg_3">
      <mechanicalReduction>1</mechanicalReduction>
      <hardwareInterface>hardware_interface/EffortJointInterface</hardwareInterface>
    </actuator>
    <joint name="RLndArmJnt">
      <hardwareInterface>hardware_interface/EffortJointInterface</hardwareInterface>
    </joint>
  </transmission>

  <!-- ################### MATERIALS Definitions ############################# -->
  <!-- ################### MATERIALS Definitions ############################# -->

  <!-- ################### SENSOR Definitions ############################# -->
  <!-- ################### SENSOR Definitions ############################# -->
  <!--
  <gazebo>
    <plugin filename="libgazebo_ros_imu.so" name="gazebo_ros_imu_controller">
      <robotNamespace>/barabasz</robotNamespace>
      <topicName>imu/data</topicName>
      <serviceName>imu/service</serviceName>
      <bodyName>MainBoard</bodyName>
      <gaussianNoise>0</gaussianNoise>
      <rpyOffsets>0 0 0</rpyOffsets>
      <updateRate>10.0</updateRate>
      <alwaysOn>true</alwaysOn>
      <gaussianNoise>0</gaussianNoise>
    </plugin>
  </gazebo>
-->

  <!-- ################### GAZEBO PLUGINS Definitions ############################# -->
  <!-- ################### GAZEBO PLUGINS Definitions ############################# -->
  <gazebo>
      <plugin filename="libgazebo_ros_control.so" name="gazebo_ros_control">
        <robotNamespace>/barabasz</robotNamespace>
      </plugin>
  </gazebo>


</robot>
